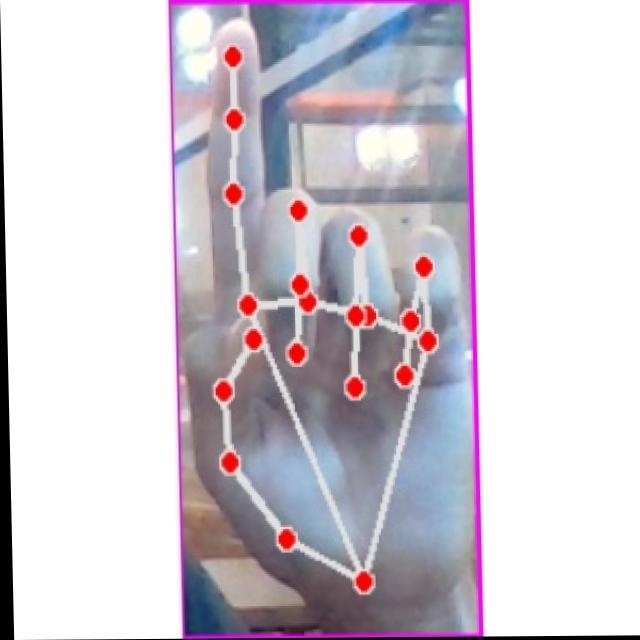D: (177, 16, 463, 603)
